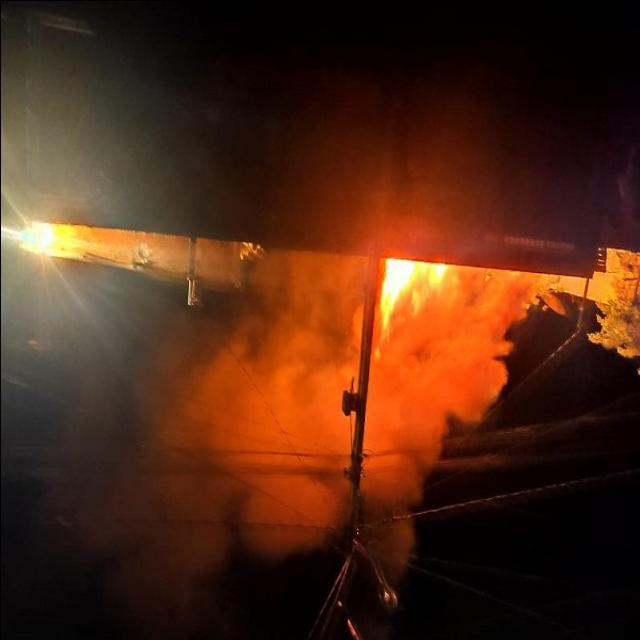Fire: (374, 260, 446, 332)
